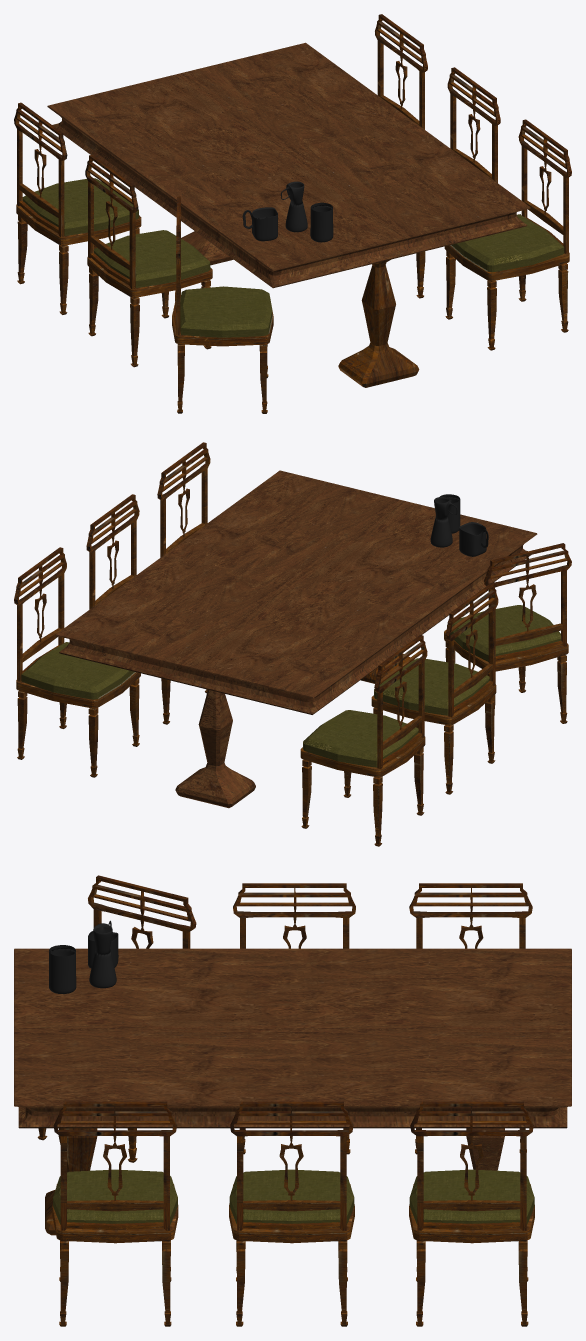
File: table_set.glb
The picture shows the model from 3 angles, top to bottom: view 1: azimuth 30°, elevation 25°; view 2: azimuth 150°, elevation 25°; view 3: azimuth 270°, elevation 25°; orthographic projection. The views are drawn at different scales.
Visible parts, largest first — view 1: Table, Chair-5, Chair-2, Chair-6, Chair-1, Chair-4, Chair-3, Cup-2, Cup-3, Cup-1; view 2: Table, Chair-6, Chair-3, Chair-2, Chair-1, Chair-4, Chair-5, Cup-3, Cup-2; view 3: Table, Chair-3, Chair-4, Chair-5, Chair-2, Chair-6, Chair-1, Cup-3, Cup-1.
Boxes of the visible parts, box(x1,y1,x2,y2) form: Table: box(47, 42, 530, 387); Chair-5: box(444, 119, 571, 350); Chair-2: box(85, 154, 212, 367); Chair-6: box(14, 102, 141, 314); Chair-1: box(172, 196, 273, 413); Chair-4: box(416, 67, 500, 298); Chair-3: box(375, 14, 427, 129); Cup-2: box(242, 207, 277, 241); Cup-3: box(280, 181, 307, 232); Cup-1: box(310, 202, 333, 242); Table: box(55, 470, 537, 808); Chair-6: box(300, 635, 427, 846); Chair-3: box(14, 547, 140, 777); Chair-2: box(371, 583, 498, 794); Chair-1: box(444, 543, 571, 738); Chair-4: box(86, 494, 207, 724); Chair-5: box(157, 442, 210, 557); Cup-3: box(430, 497, 457, 547); Cup-2: box(459, 522, 488, 556); Table: box(14, 948, 571, 1235); Chair-3: box(409, 1101, 534, 1326); Chair-4: box(229, 1101, 354, 1326); Chair-5: box(52, 1101, 178, 1326); Chair-2: box(233, 883, 355, 1154); Chair-6: box(409, 883, 532, 1154); Chair-1: box(37, 875, 196, 1162); Cup-3: box(89, 923, 116, 988); Cup-1: box(49, 945, 76, 994).
Size of the model in its own units: 10.82 by 5.39 by 10.95.
5 materials, 4 textured.
